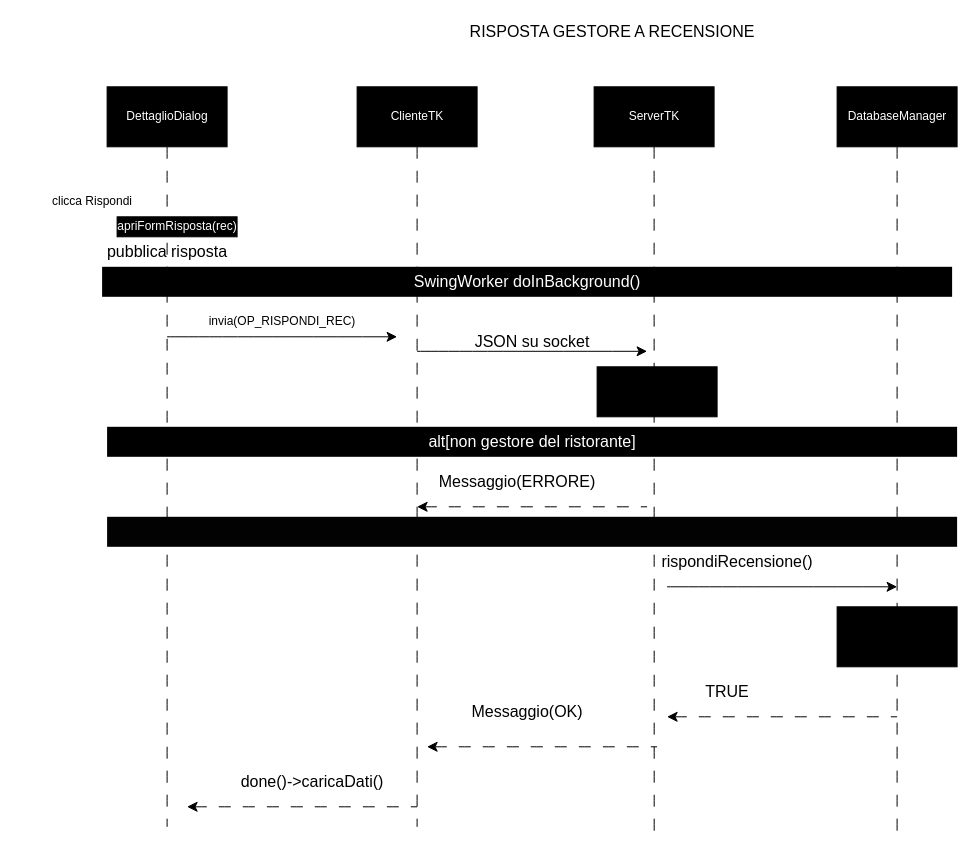
This 975x856 diagram has some shape labels left out. Here are the shapes that lost their labels. From the top down, the box of each, then its label:
(596, 366, 717, 417): verifica gestore del ristorante
(107, 516, 957, 546): else[autorizzato]
(836, 606, 957, 667): UPDATE
